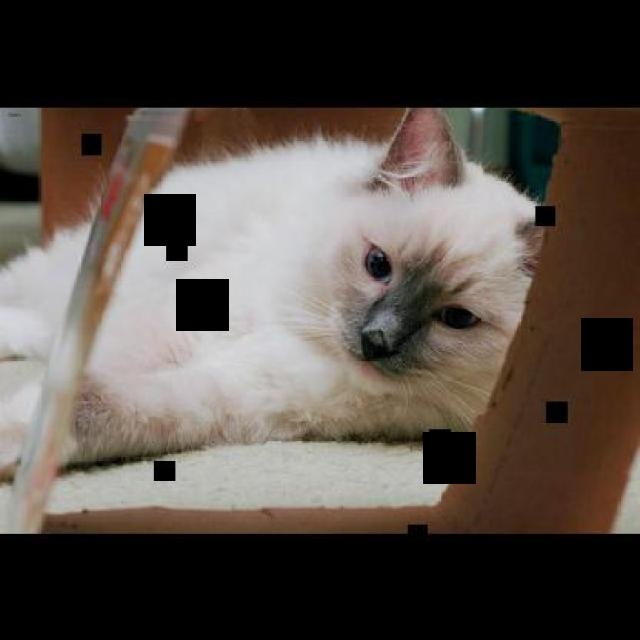unauthorized: (0, 106, 546, 485)
